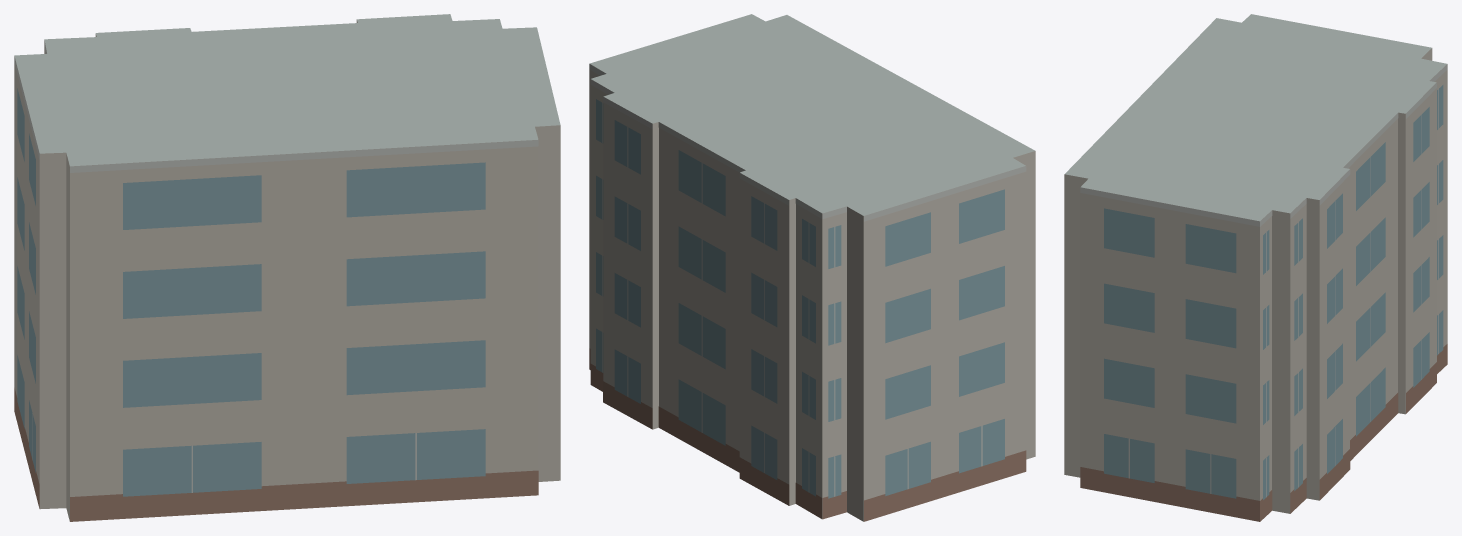
Rendered from survey-upis-32755904.glb.
3 renders of one model, left to right at view 1: azimuth 30°, elevation 25°; view 2: azimuth 150°, elevation 25°; view 3: azimuth 270°, elevation 25°, orthographic. The views are drawn at different scales.
Parts seen in each view (by area): view 1: survey-upis-32755904.tmp; view 2: survey-upis-32755904.tmp; view 3: survey-upis-32755904.tmp.
Boxes of the visible parts, x1=… form: survey-upis-32755904.tmp: x1=14, y1=14, x2=560, y2=521; survey-upis-32755904.tmp: x1=589, y1=14, x2=1035, y2=521; survey-upis-32755904.tmp: x1=1064, y1=14, x2=1447, y2=521.
Bounding box in the file's own units: 19.17 × 12.95 × 14.97.
